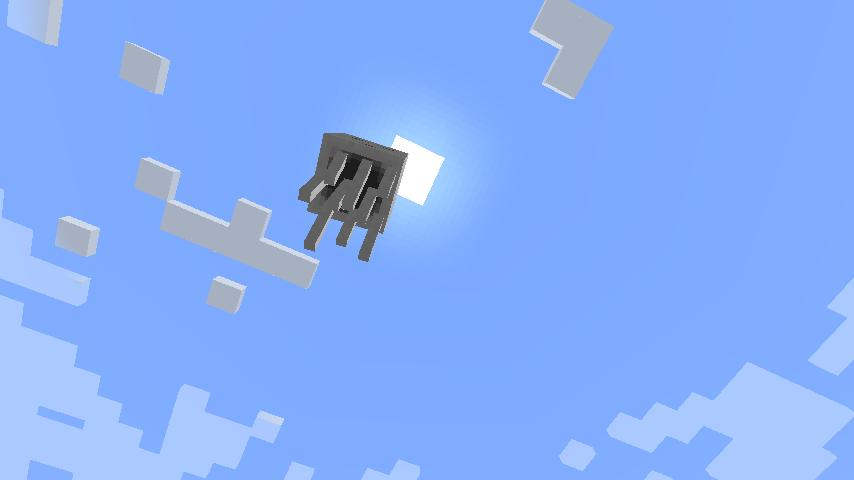ghast: (294, 129, 409, 264)
